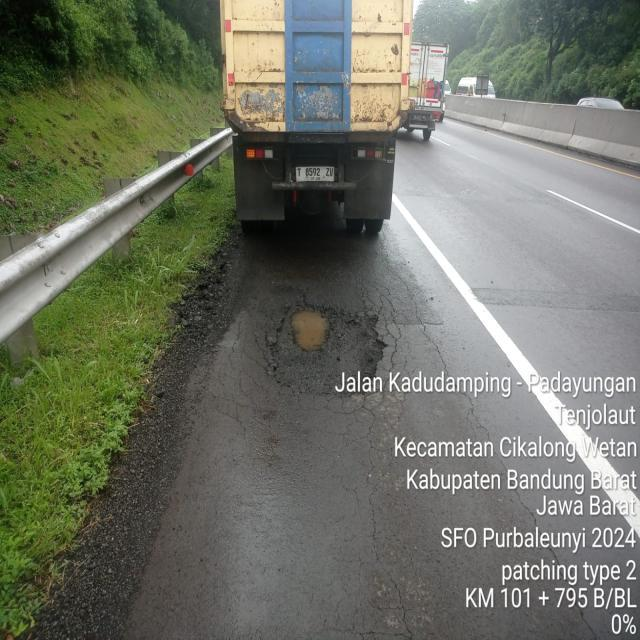Buraco: (262, 292, 392, 400)
